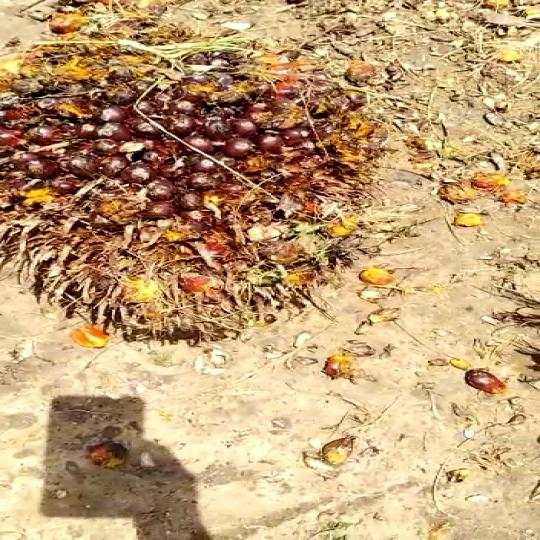masak: (0, 21, 425, 348)
